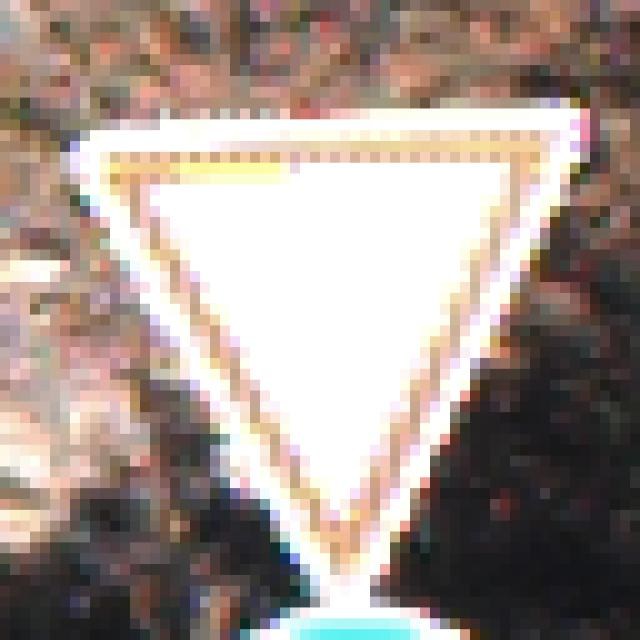Give Way: (61, 66, 591, 576)
